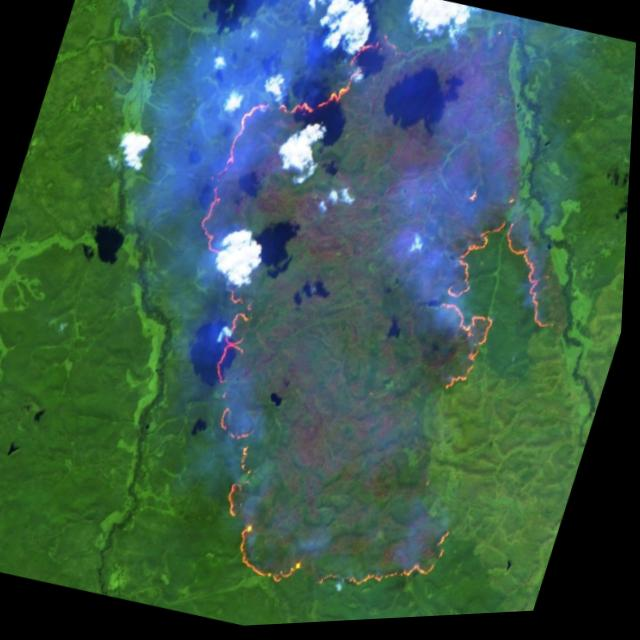fire: (95, 0, 640, 635)
